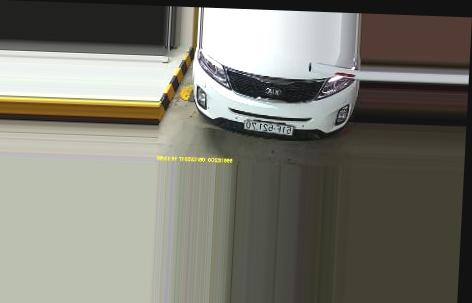License_Plate: (243, 117, 295, 136)
